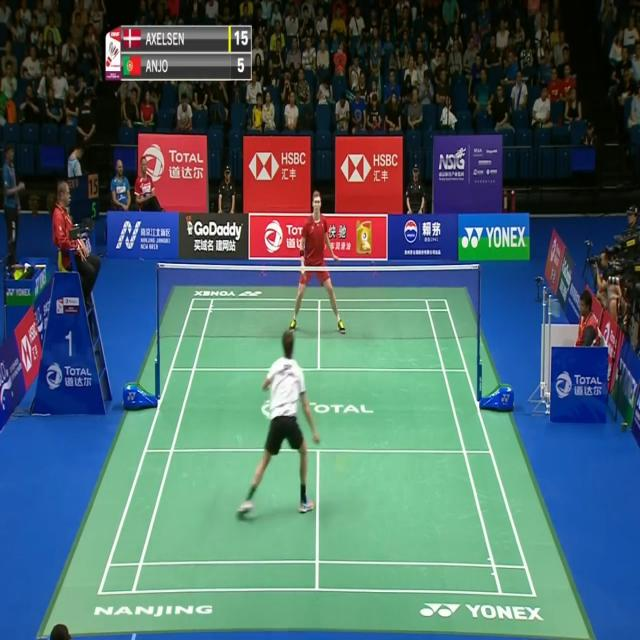Player1: (235, 329, 321, 532)
Player2: (290, 187, 350, 336)
